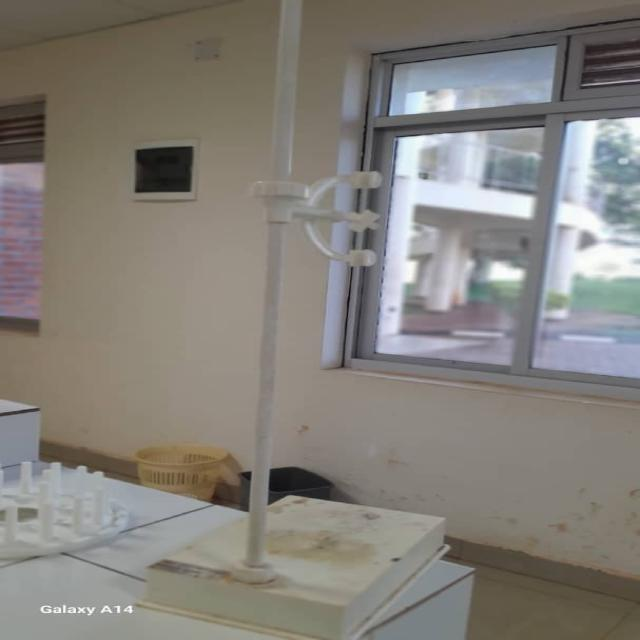Stand: (118, 6, 448, 640)
